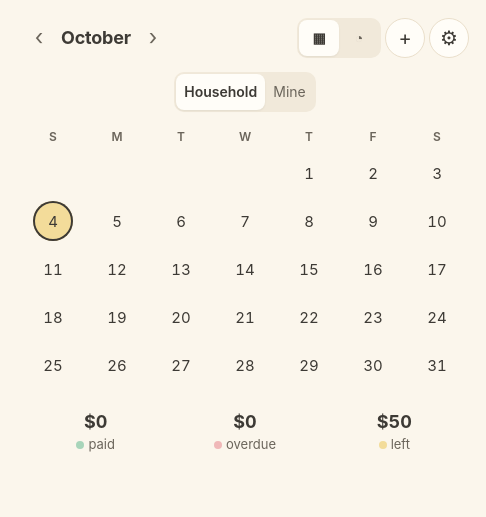
Test: Home › the arrows change the month, and the year shows only off the current year
Expected: the heading reads "October", [61,27,131,48]
Click the button named "Previous month".
click(39, 38)  # box [21,16,57,60]
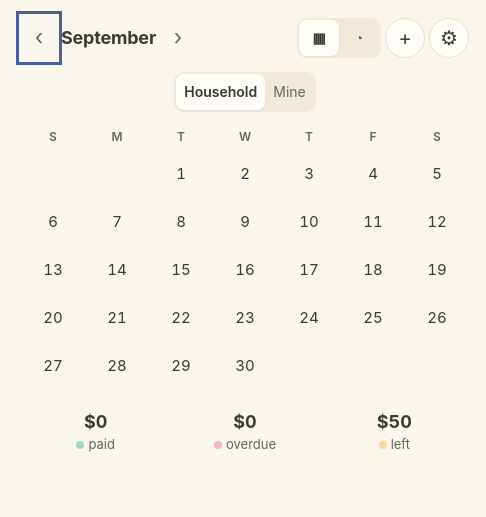
Expected: the heading reads "September", [61,27,156,48]
Click the button named "Next month".
click(178, 38)  # box [160,16,196,60]
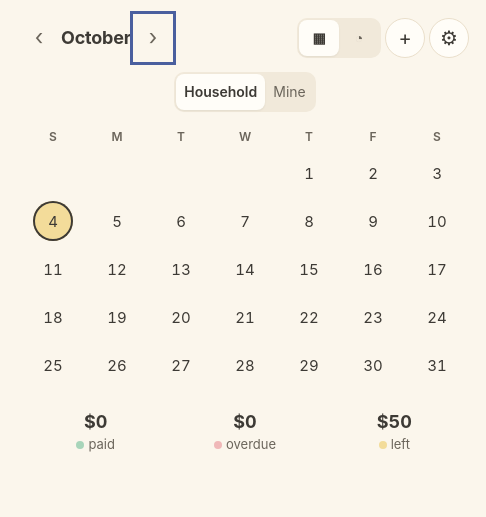
Click the button named "Next month".
click(153, 38)  # box [135,16,171,60]
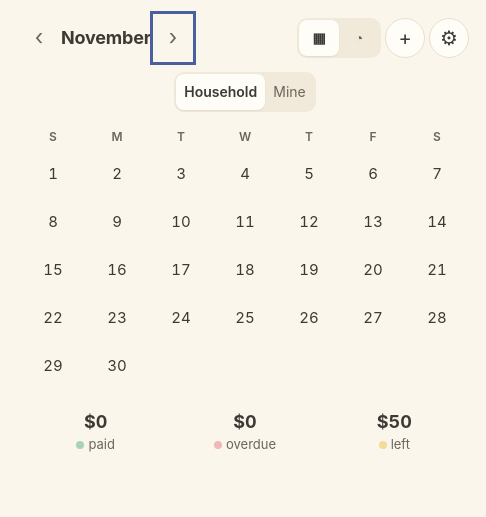
Click the button named "Next month".
click(173, 38)  # box [155,16,191,60]
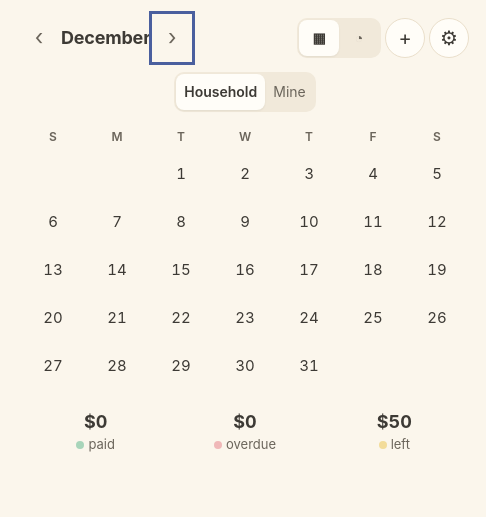
Click the button named "Next month".
click(172, 38)  # box [154,16,190,60]
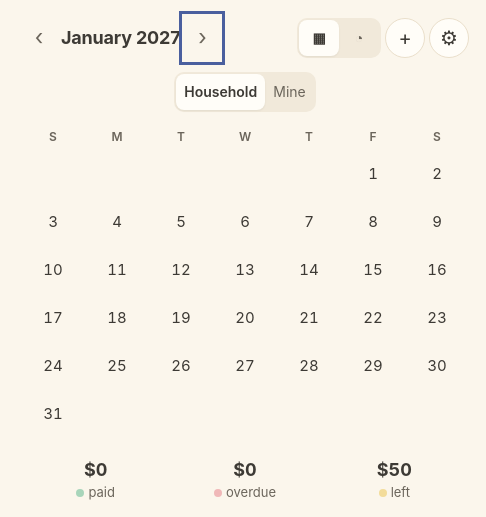
Expected: the heading reads "January 2027", [61,27,180,48]
